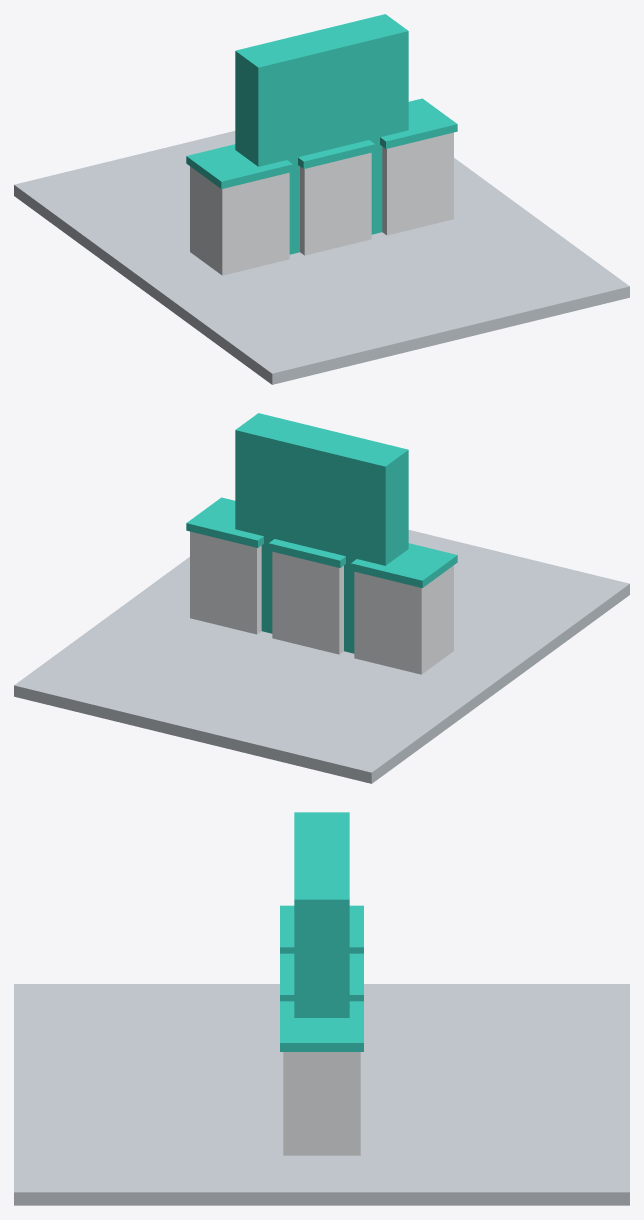
The picture shows the model from 3 angles, top to bottom: view 1: azimuth 30°, elevation 25°; view 2: azimuth 150°, elevation 25°; view 3: azimuth 270°, elevation 25°; orthographic projection. The views are drawn at different scales.
Parts seen in each view (by area): view 1: Exhibition Booth Concept; view 2: Exhibition Booth Concept; view 3: Exhibition Booth Concept.
Boxes of the visible parts, box(x1,y1,x2,y2) form: Exhibition Booth Concept: box(14, 14, 629, 384); Exhibition Booth Concept: box(14, 413, 629, 783); Exhibition Booth Concept: box(14, 812, 629, 1205).
Size of the model in its own units: 4 by 2.2 by 5.
